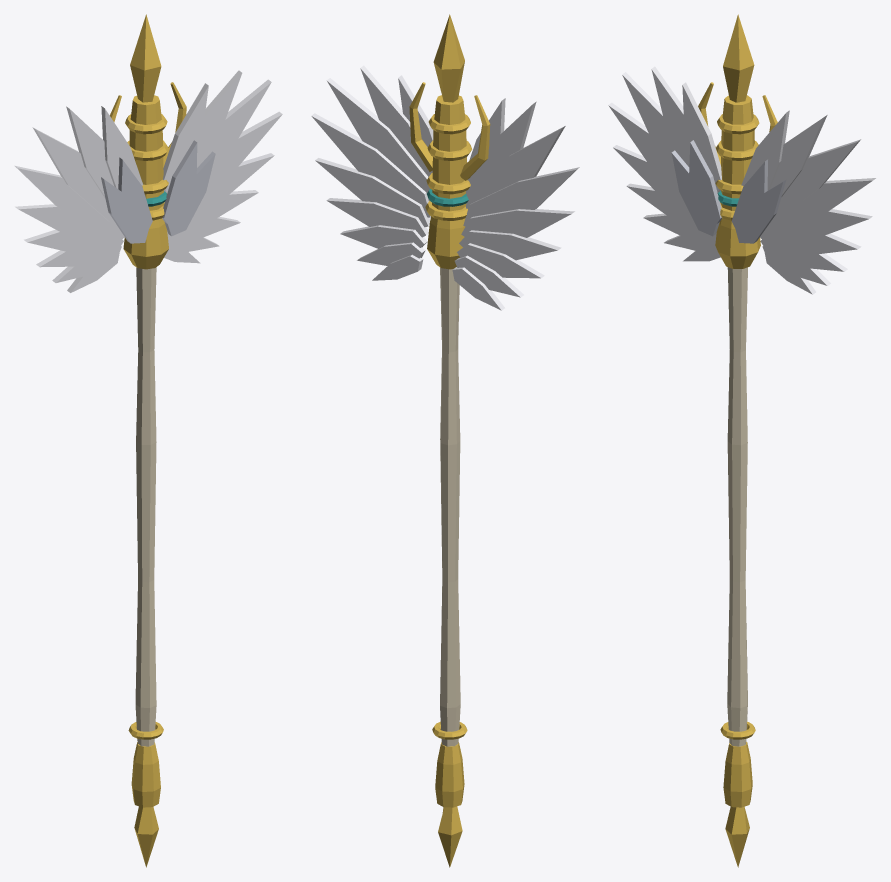
The model's file is staff_goldwing.glb.
3 views of the same model, side by side, from view 1: azimuth 30°, elevation 25°; view 2: azimuth 150°, elevation 25°; view 3: azimuth 330°, elevation 25° (orthographic).
Visible parts, largest first — view 1: Gw_Shaft, Gw_Feather0_2, Gw_Column, Gw_Feather0_3, Gw_Cover1_0, Gw_Feather1_0, Gw_Spike, Gw_Butt, Gw_Feather0_4, Gw_Feather1_2, Gw_Feather0_1, Gw_Cover0_0 (+13 smaller); view 2: Gw_Shaft, Gw_Feather1_3, Gw_Feather1_2, Gw_Column, Gw_Feather0_3, Gw_Feather0_2, Gw_Feather1_4, Gw_Feather0_4, Gw_Spike, Gw_Feather1_1, Gw_Feather1_5, Gw_Feather0_5 (+14 smaller); view 3: Gw_Shaft, Gw_Column, Gw_Feather1_2, Gw_Feather1_3, Gw_Spike, Gw_Feather0_0, Gw_Butt, Gw_Feather1_4, Gw_Feather0_2, Gw_Cover0_0, Gw_Feather1_1, Gw_Cover0_1 (+13 smaller).
Boxes of the visible parts, bbox=[...] form: Gw_Shaft: bbox=[135, 267, 156, 746]; Gw_Feather0_2: bbox=[32, 127, 114, 221]; Gw_Column: bbox=[129, 95, 163, 210]; Gw_Feather0_3: bbox=[14, 165, 118, 232]; Gw_Cover1_0: bbox=[162, 140, 197, 229]; Gw_Feather1_0: bbox=[163, 83, 208, 193]; Gw_Spike: bbox=[130, 14, 161, 102]; Gw_Butt: bbox=[131, 742, 160, 807]; Gw_Feather0_4: bbox=[15, 204, 122, 241]; Gw_Feather1_2: bbox=[210, 79, 271, 175]; Gw_Feather0_1: bbox=[66, 106, 113, 198]; Gw_Cover0_0: bbox=[118, 157, 152, 235]; Gw_Shaft: bbox=[440, 267, 460, 746]; Gw_Feather1_3: bbox=[311, 113, 430, 217]; Gw_Feather1_2: bbox=[326, 78, 429, 200]; Gw_Column: bbox=[432, 95, 466, 211]; Gw_Feather0_3: bbox=[463, 167, 579, 226]; Gw_Feather0_2: bbox=[466, 126, 565, 208]; Gw_Feather1_4: bbox=[315, 158, 430, 227]; Gw_Feather0_4: bbox=[461, 209, 574, 237]; Gw_Spike: bbox=[433, 14, 464, 102]; Gw_Feather1_1: bbox=[360, 65, 432, 176]; Gw_Feather1_5: bbox=[326, 198, 428, 237]; Gw_Feather0_5: bbox=[459, 230, 561, 260]; Gw_Shaft: bbox=[727, 267, 747, 746]; Gw_Column: bbox=[720, 95, 754, 210]; Gw_Feather1_2: bbox=[771, 139, 860, 222]; Gw_Feather1_3: bbox=[766, 178, 875, 232]; Gw_Spike: bbox=[723, 14, 754, 102]; Gw_Feather0_0: bbox=[682, 82, 721, 192]; Gw_Butt: bbox=[723, 742, 752, 807]; Gw_Feather1_4: bbox=[762, 209, 872, 241]; Gw_Feather0_2: bbox=[622, 72, 675, 174]; Gw_Cover0_0: bbox=[689, 140, 721, 228]; Gw_Feather1_1: bbox=[770, 115, 827, 196]; Gw_Cover0_1: bbox=[671, 150, 719, 236].
Bounding box in the file's own units: 0.8445 × 2.6 × 0.143.
